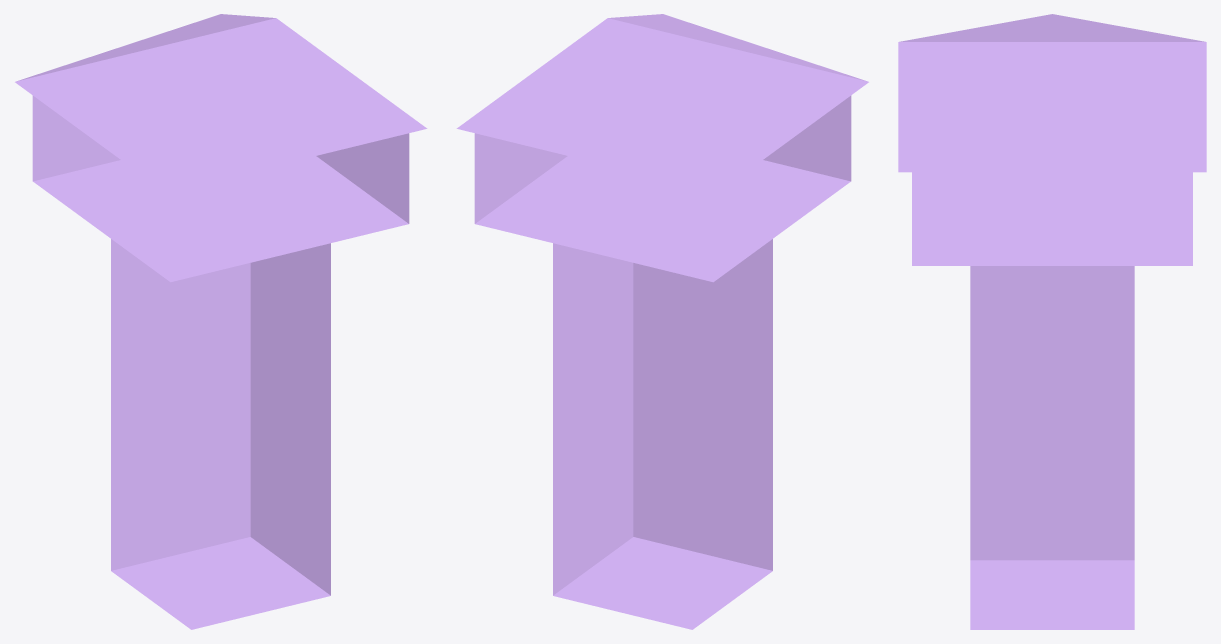
The model's file is airport-tower.gltf.
3 views of the same model, side by side, from view 1: azimuth 30°, elevation 25°; view 2: azimuth 150°, elevation 25°; view 3: azimuth 270°, elevation 25° (orthographic). The views are drawn at different scales.
Visible parts, largest first — view 1: airport-tower; view 2: airport-tower; view 3: airport-tower.
Boxes of the visible parts, <box> form: airport-tower: <box>15,14,427,629</box>; airport-tower: <box>456,14,868,629</box>; airport-tower: <box>898,14,1206,629</box>.
Size of the model in its own units: 0.9 by 1.87 by 0.9.
